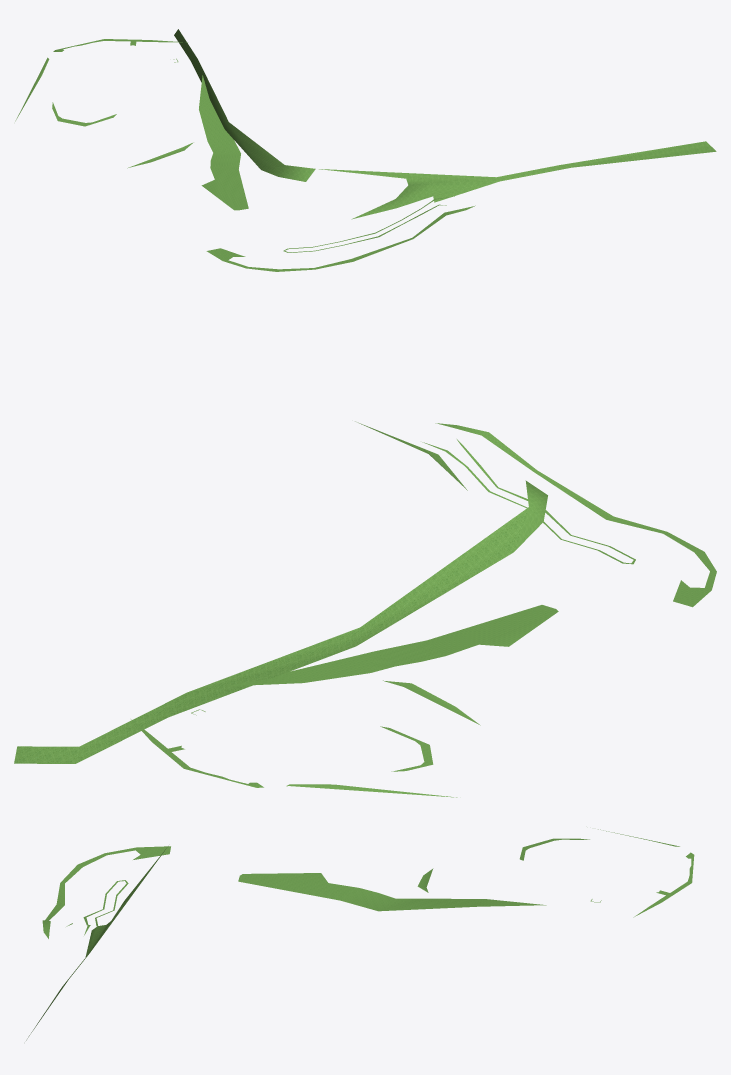
The model's file is kd_stage_1363c5_6_6.glb.
The picture shows the model from 3 angles, top to bottom: view 1: azimuth 30°, elevation 25°; view 2: azimuth 150°, elevation 25°; view 3: azimuth 270°, elevation 25°; orthographic projection. The views are drawn at different scales.
Parts seen in each view (by area): view 1: kd_stage_1363c5_6_6; view 2: kd_stage_1363c5_6_6; view 3: kd_stage_1363c5_6_6.
Boxes of the visible parts, left/top/right/bottom form: kd_stage_1363c5_6_6: left=15, top=29, right=716, bottom=271; kd_stage_1363c5_6_6: left=14, top=421, right=716, bottom=797; kd_stage_1363c5_6_6: left=26, top=829, right=694, bottom=1040.
Bounding box in the file's own units: 299 × 36.93 × 326.
1 material, 1 textured.
